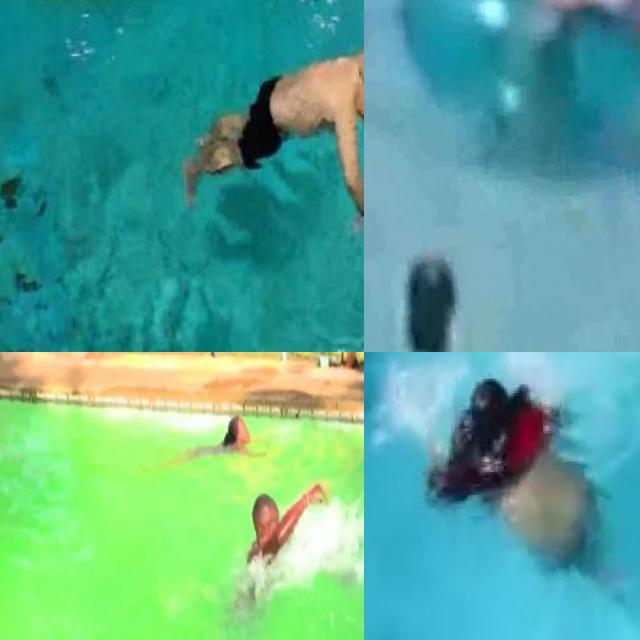drowning: (412, 352, 625, 594), (174, 36, 364, 241), (377, 241, 520, 352)
swimming: (222, 479, 335, 640), (503, 0, 640, 93), (163, 410, 274, 488)
